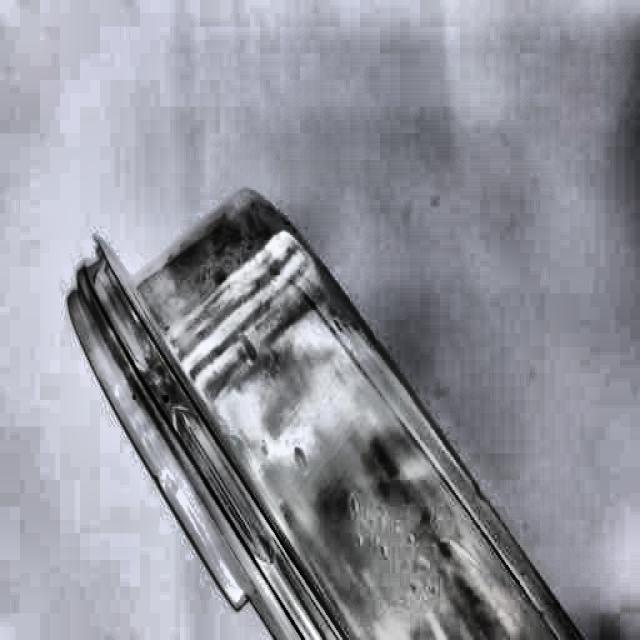plastic: (63, 195, 594, 640)
